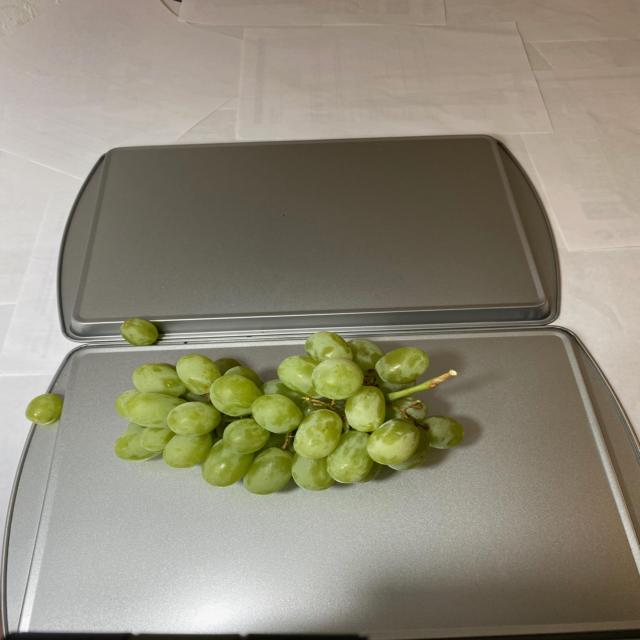grapes: (107, 318, 478, 483), (18, 391, 67, 428)
